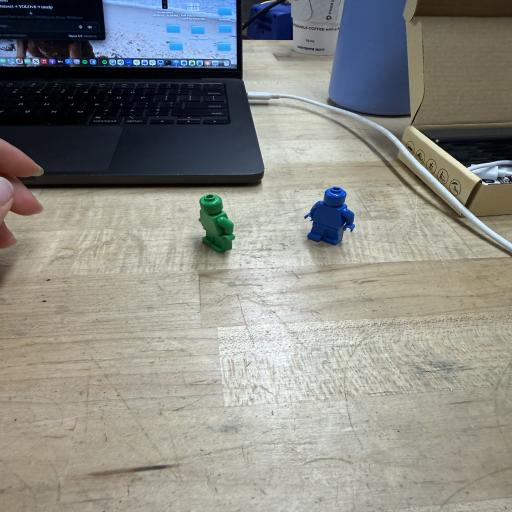blue-minifig: (304, 187, 355, 245)
green-minifig: (199, 194, 235, 252)
